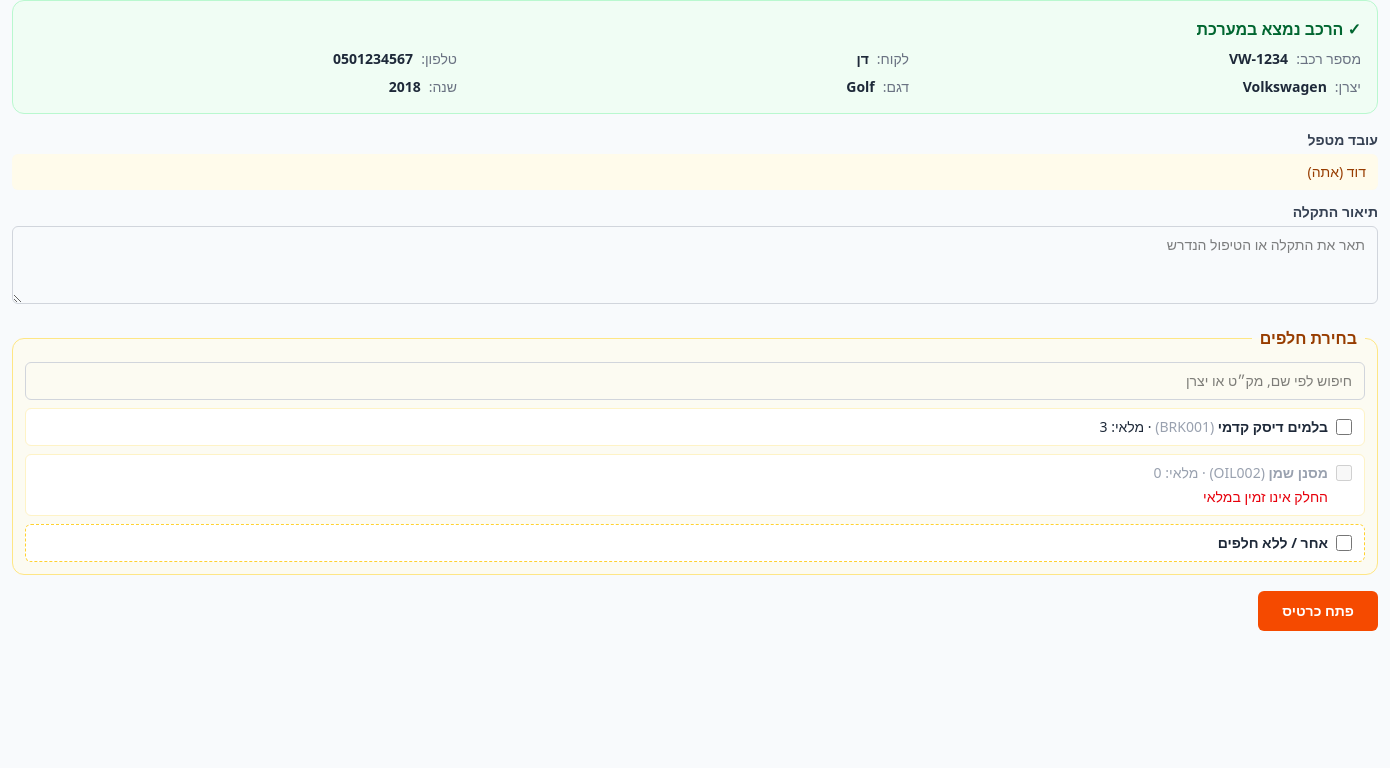
Test: PartsSelection — compatible parts in the ticket flow › blocks submit with a Hebrew message when no part and not "אחר" is chosen
Expected: the checkbox labelled "בלמים דיסק קדמי" is shown, x1=1336 y1=419 x2=1352 y2=435
Type "בדיקה כללית" into the text box labelled "תיאור התקלה".
click(695, 265); type("בדיקה כללית")  # box x1=12 y1=226 x2=1378 y2=304
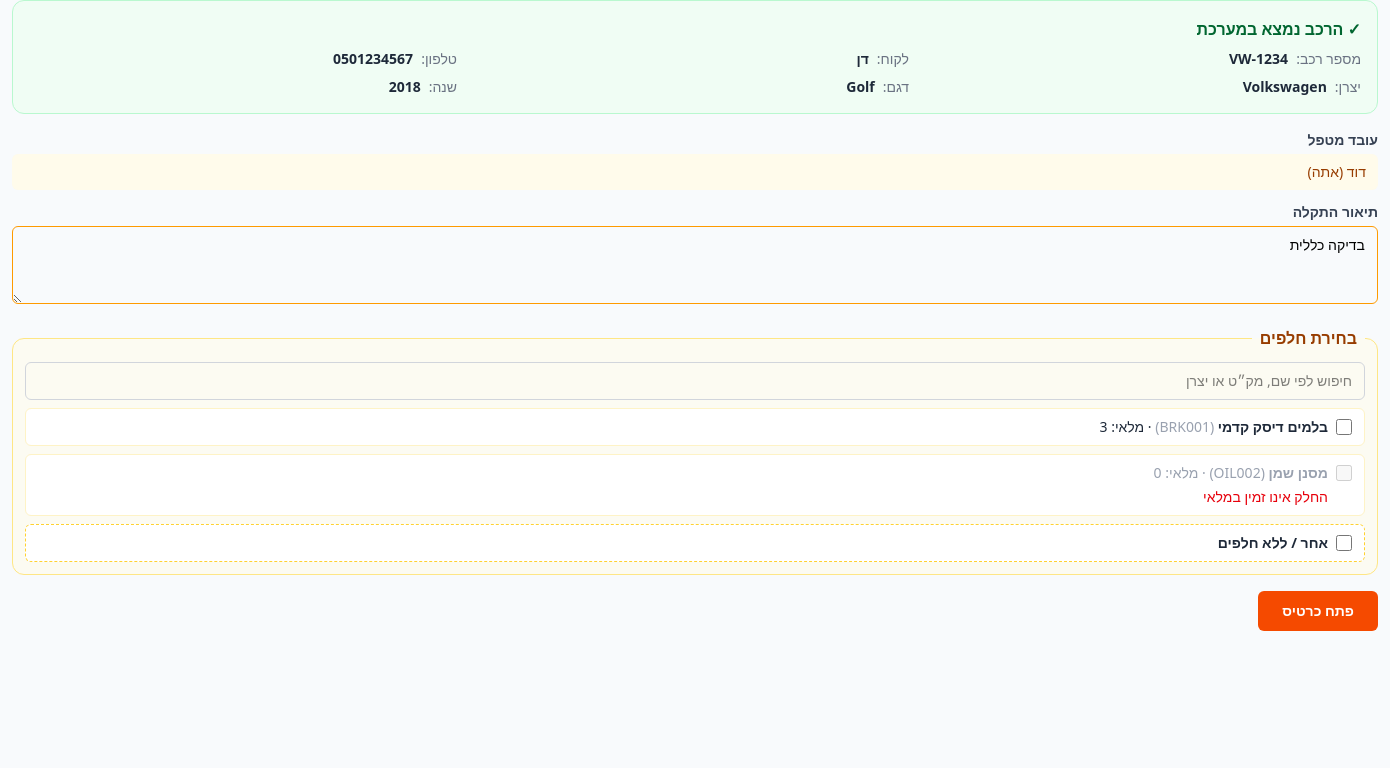
Click the button "פתח כרטיס".
click(1318, 611)  # box x1=1258 y1=591 x2=1378 y2=631
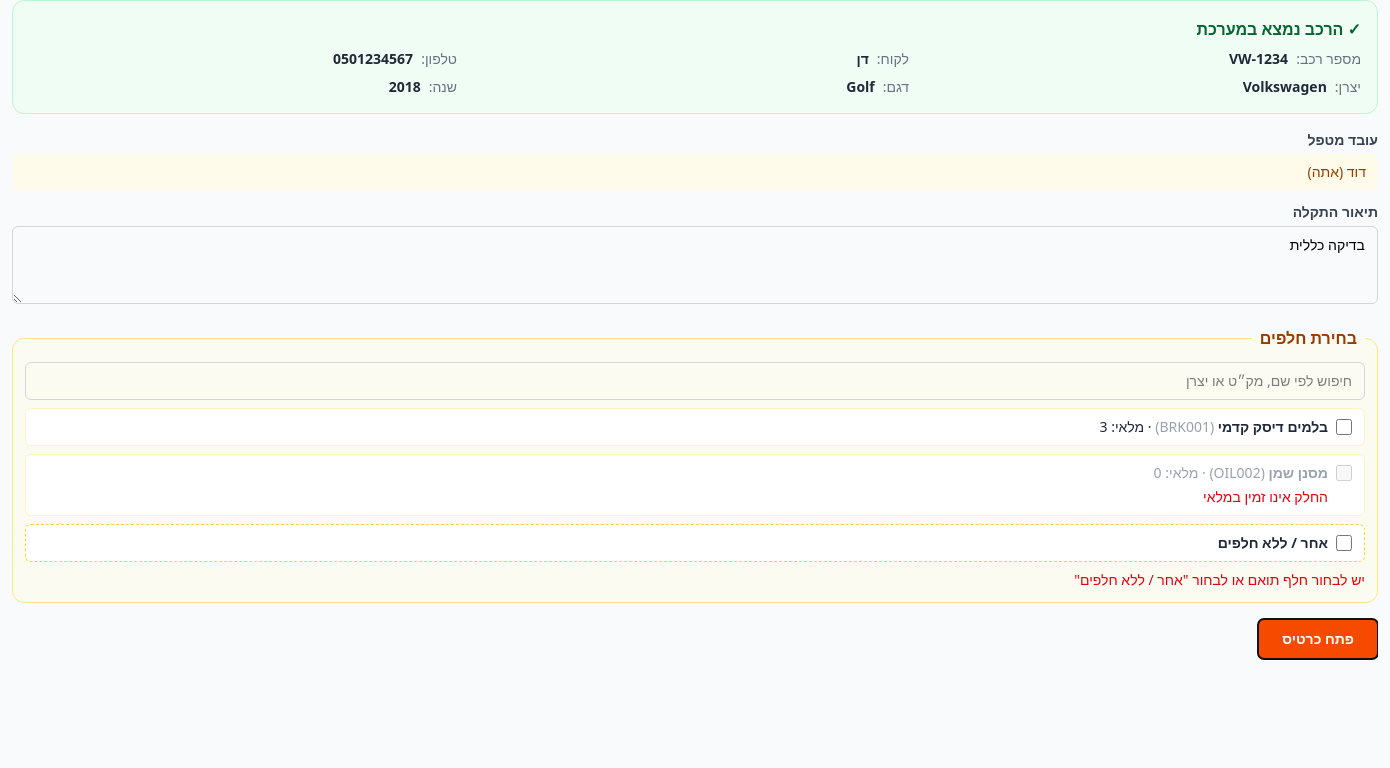
Now the text "יש לבחור חלף תואם או לבחור \"אחר / ללא חלפים\"" is shown, box x1=1074 y1=570 x2=1365 y2=589
